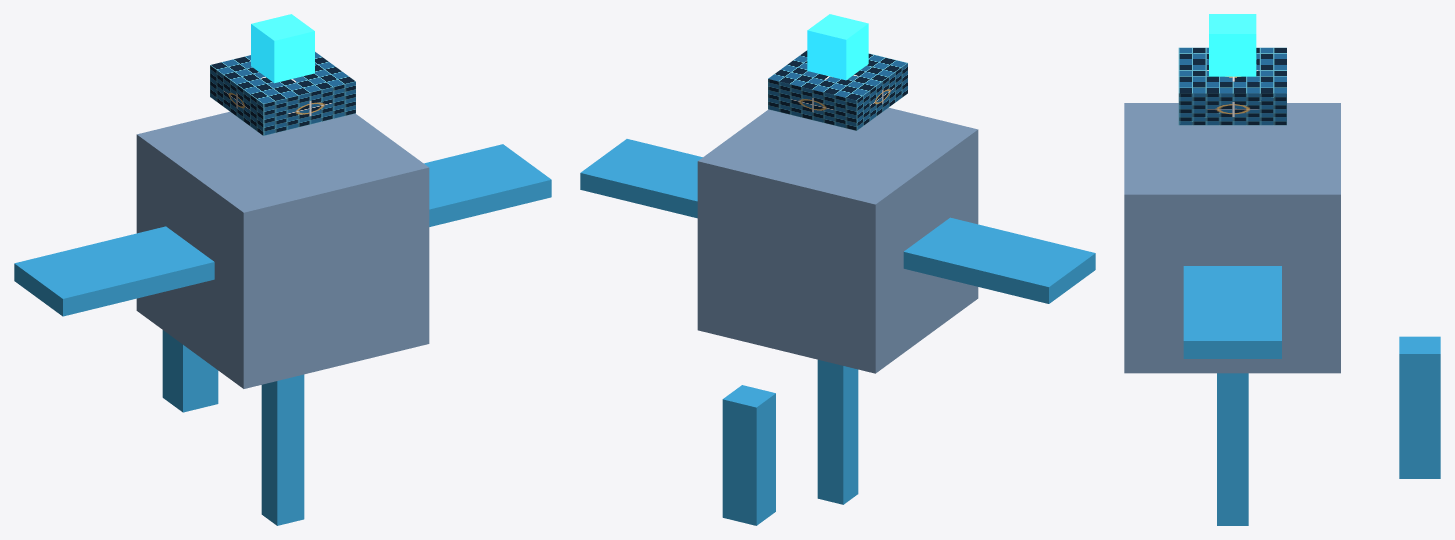
Rendered from starfire-relay.glb.
3 views of the same model, side by side, from view 1: azimuth 30°, elevation 25°; view 2: azimuth 150°, elevation 25°; view 3: azimuth 270°, elevation 25° (orthographic). The views are drawn at different scales.
Visible parts, largest first — view 1: Core housing, Left wing, Signal topper, Right wing, Vertical mast, Signal light, Rear support matrix; view 2: Core housing, Left wing, Signal topper, Rear support matrix, Right wing, Vertical mast, Signal light; view 3: Core housing, Right wing, Signal topper, Rear support matrix, Vertical mast, Signal light.
Boxes of the visible parts, x1=… form: Core housing: x1=136, y1=111, x2=429, y2=388; Left wing: x1=14, y1=226, x2=214, y2=316; Signal topper: x1=210, y1=52, x2=355, y2=135; Right wing: x1=424, y1=144, x2=551, y2=226; Vertical mast: x1=261, y1=374, x2=304, y2=525; Signal light: x1=251, y1=14, x2=314, y2=83; Rear support matrix: x1=162, y1=330, x2=218, y2=412; Core housing: x1=697, y1=107, x2=978, y2=373; Left wing: x1=903, y1=217, x2=1095, y2=303; Signal topper: x1=768, y1=50, x2=907, y2=130; Rear support matrix: x1=722, y1=385, x2=775, y2=525; Right wing: x1=580, y1=139, x2=702, y2=218; Vertical mast: x1=817, y1=359, x2=858, y2=504; Signal light: x1=807, y1=14, x2=868, y2=80; Core housing: x1=1124, y1=103, x2=1340, y2=373; Right wing: x1=1183, y1=266, x2=1281, y2=358; Signal topper: x1=1178, y1=47, x2=1286, y2=125; Rear support matrix: x1=1399, y1=336, x2=1440, y2=478; Vertical mast: x1=1217, y1=373, x2=1248, y2=525; Signal light: x1=1209, y1=14, x2=1256, y2=76.
Size of the model in its own units: 2.9 by 2.78 by 1.6.
Materials: 4 (1 with a texture image).
